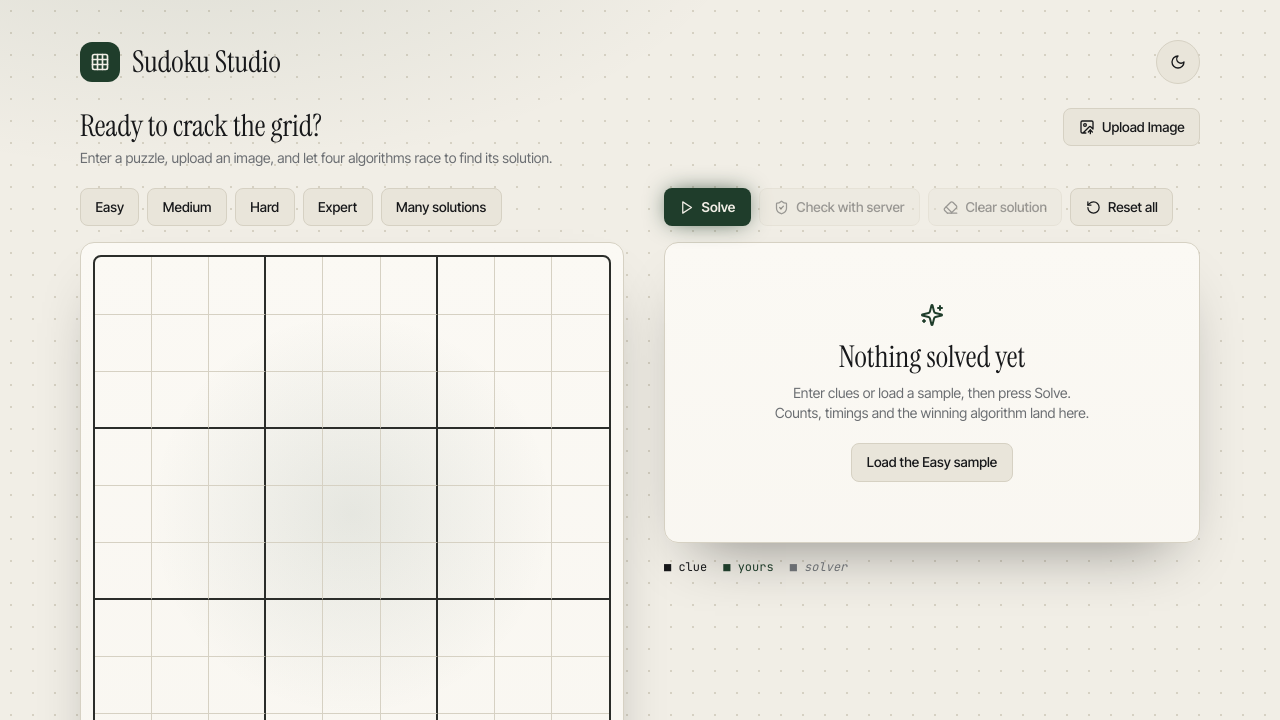
Scenario: Server validation grid highlight & API errors › highlights conflicting cells on grid when server validation returns conflicts
Step 1. Click the button "Easy" → coordinates (110, 207), box [80,188,139,226]
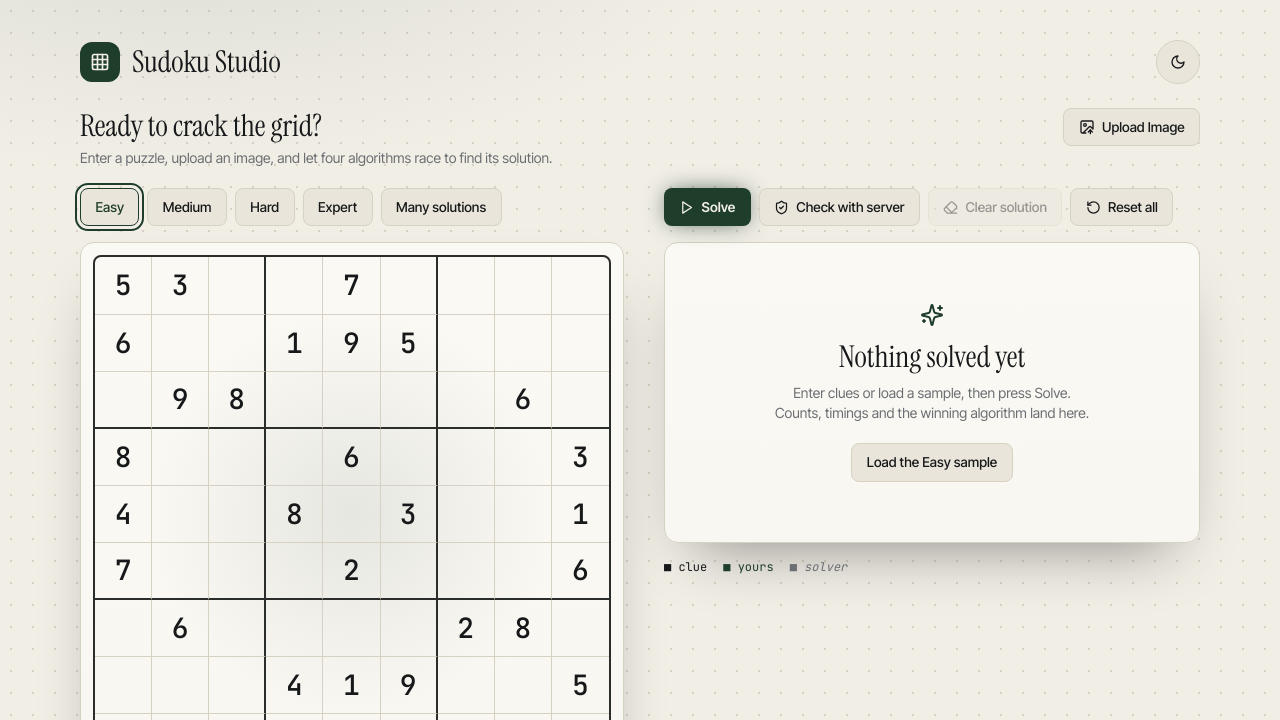
Step 2. Click the button "Check with server" → coordinates (839, 207), box [759,188,920,226]
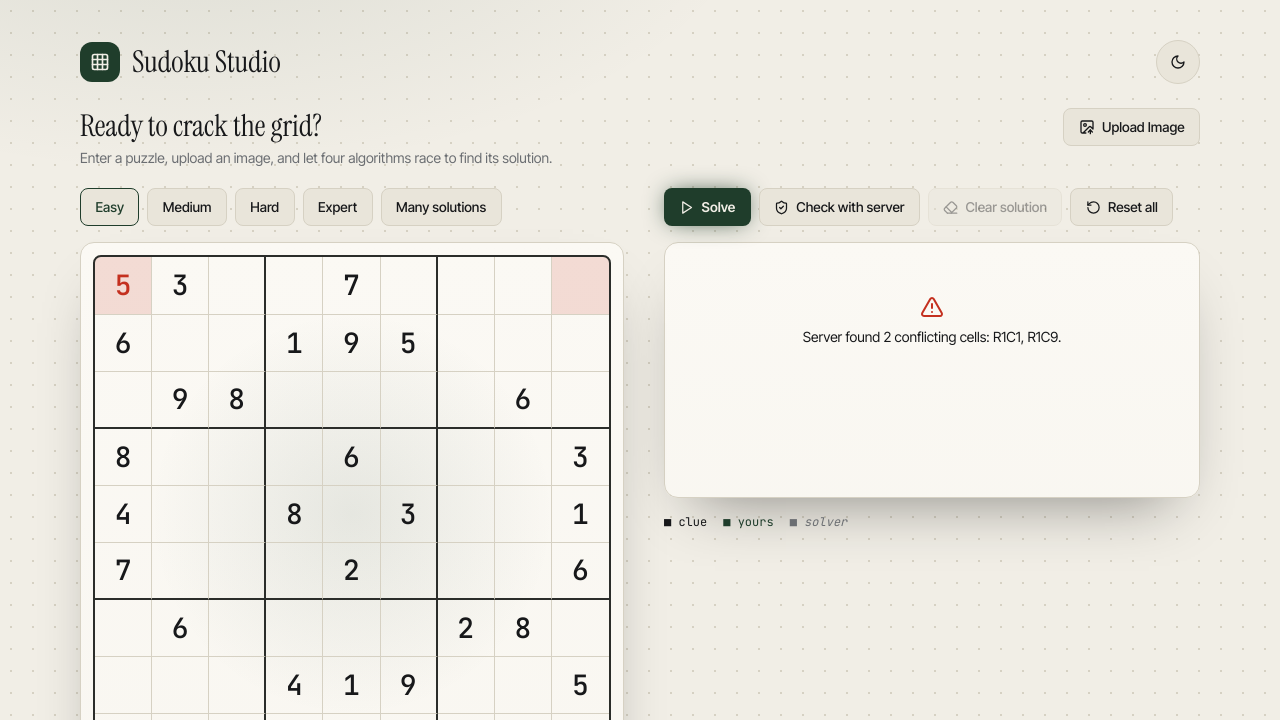
Now the text "Server found 2 conflicting cells: R1C1, R1C9." is shown, box [803,328,1061,345]
Now the 1st cell labelled "5" is shown, box [95,257,152,314]
Now the cell named "Row 1, column 9, empty, conflict" is shown, box [552,257,609,314]
